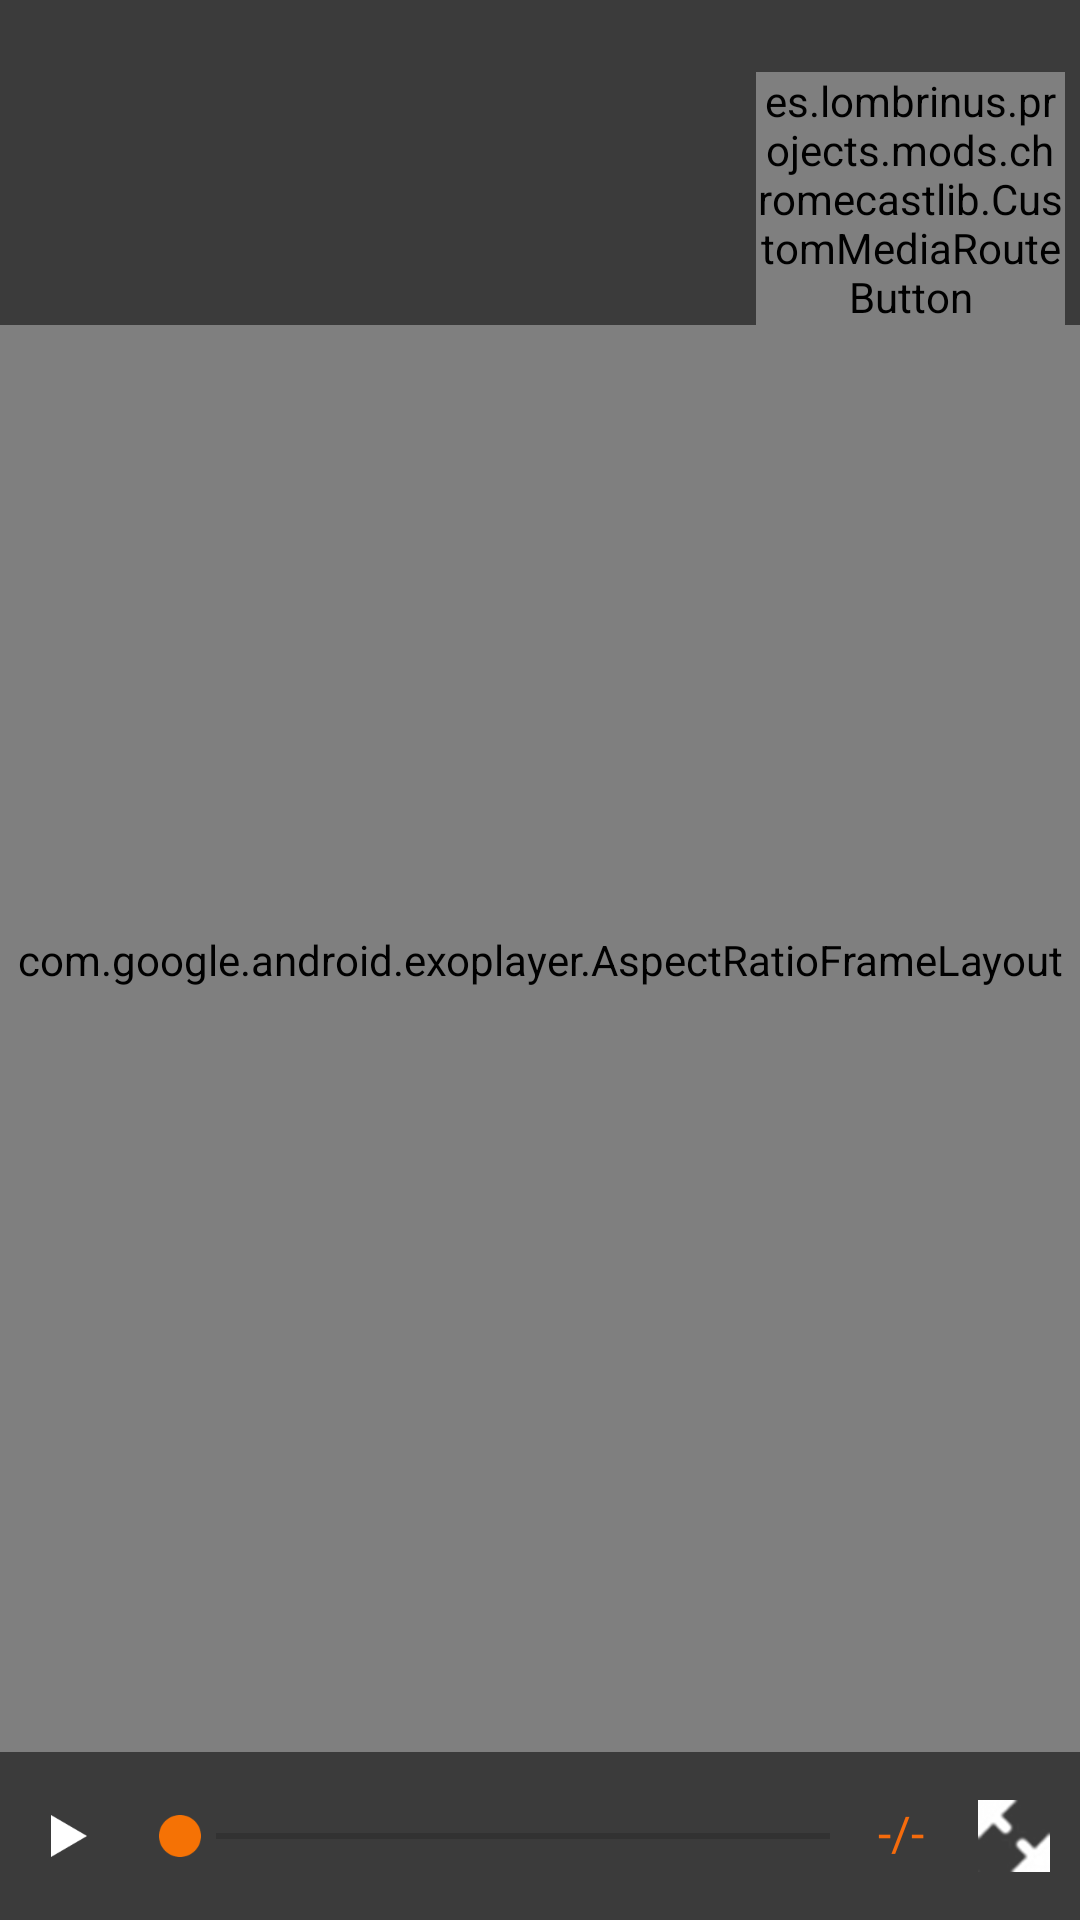

Named icons in this screenshot (1080×1920) and their centers, point (x, y):
fullscreen on: point (1014, 1836)
play control: point (69, 1836)
